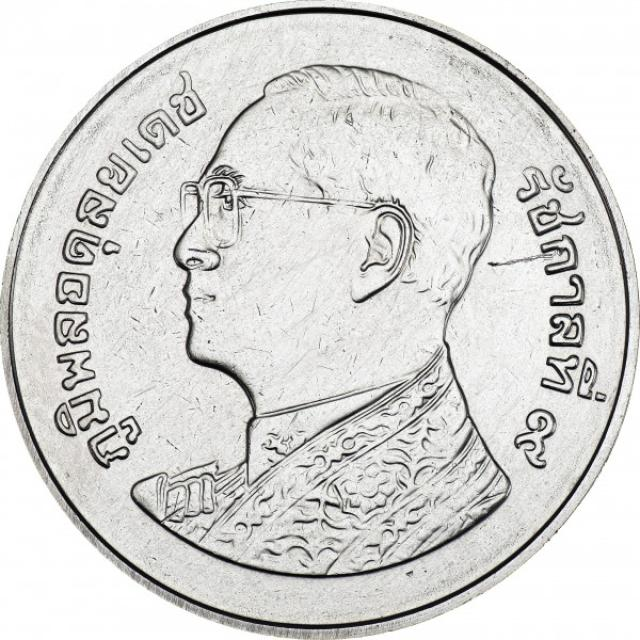1 Bath: (6, 1, 640, 640)
